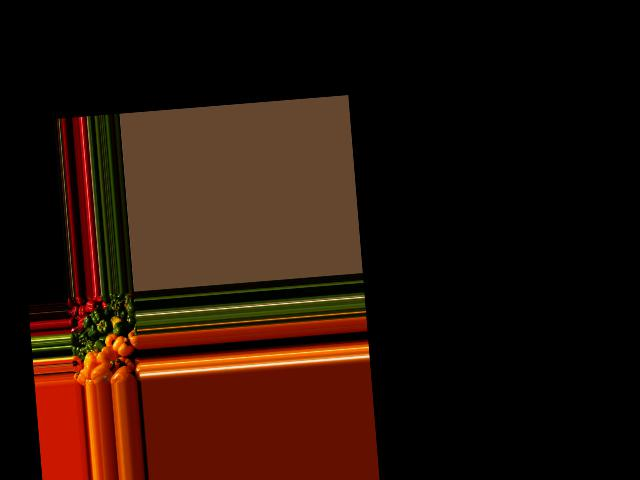bell_pepper: (123, 292, 136, 308)
